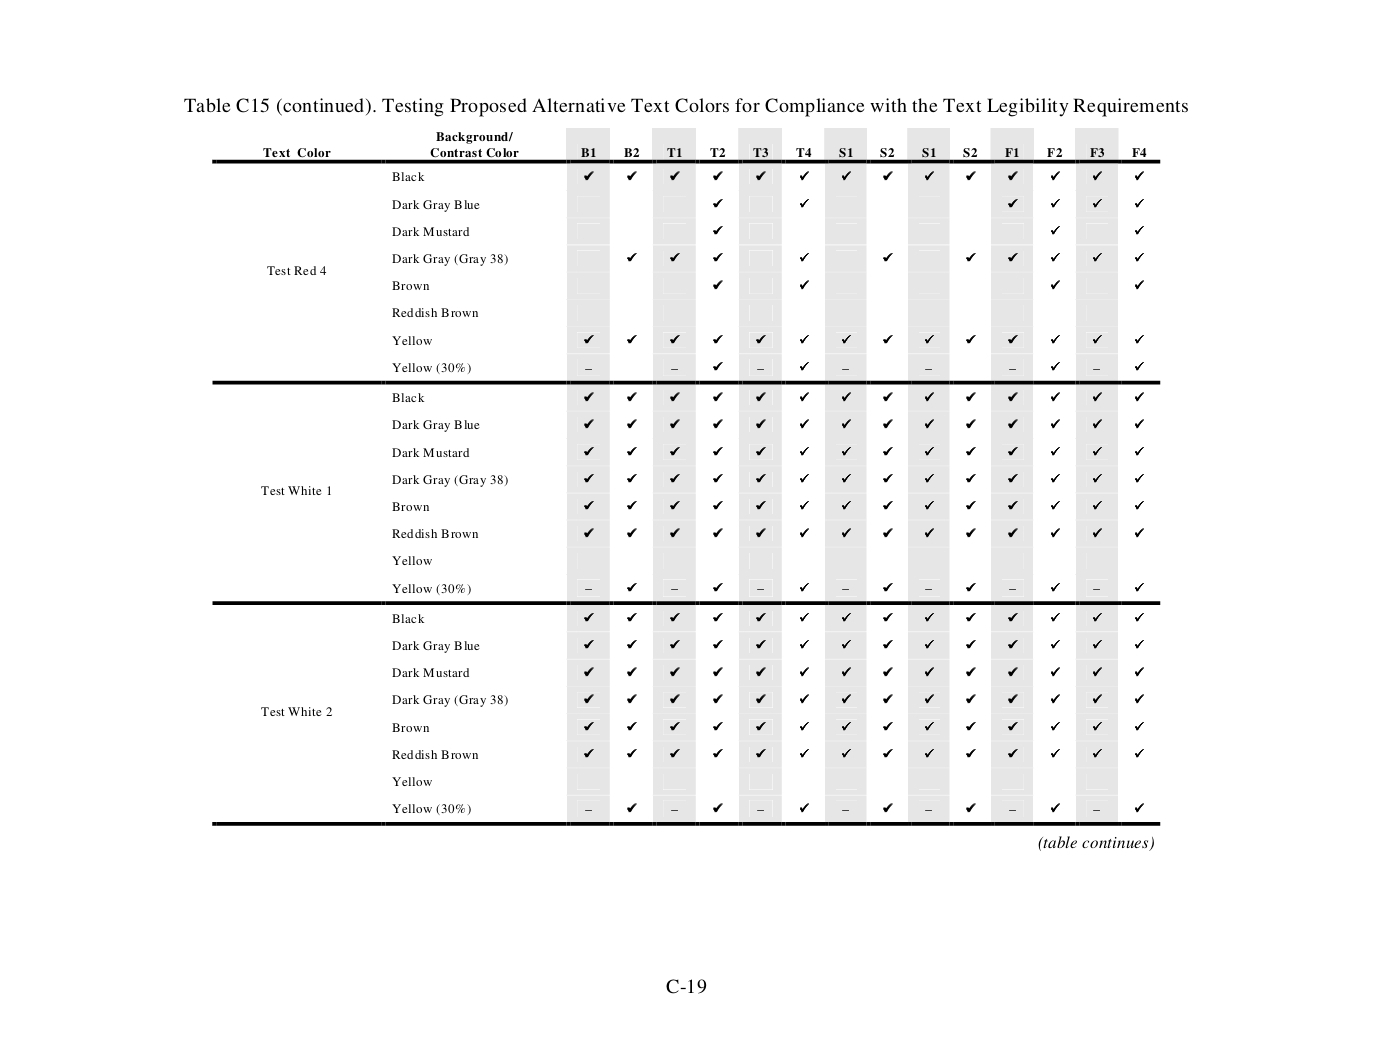Table: (212, 127, 1160, 826)
